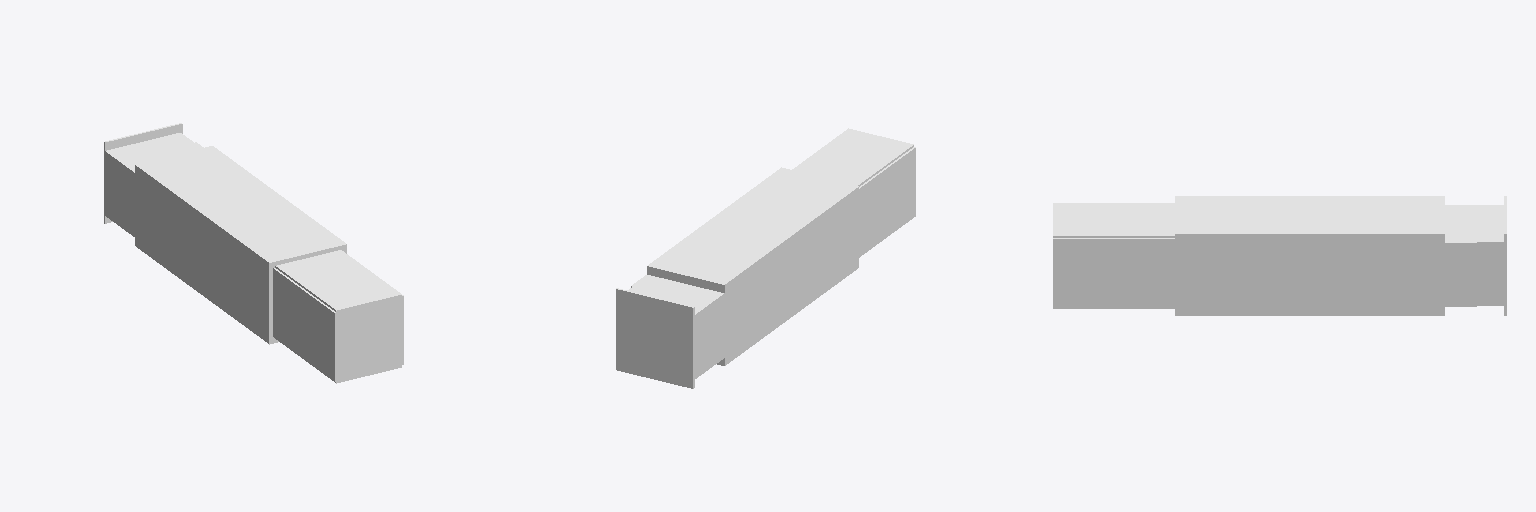
File: pulya.obj
The picture shows the model from 3 angles: view 1: azimuth 30°, elevation 25°; view 2: azimuth 150°, elevation 25°; view 3: azimuth 270°, elevation 25°; orthographic projection.
Parts seen in each view (by area): view 1: object 1; view 2: object 1; view 3: object 1.
Boxes of the visible parts, <box> form: object 1: <box>104,123,403,383</box>; object 1: <box>616,128,915,388</box>; object 1: <box>1053,196,1506,315</box>.
Bounding box in the file's own units: 3.9 × 3.9 × 19.7.